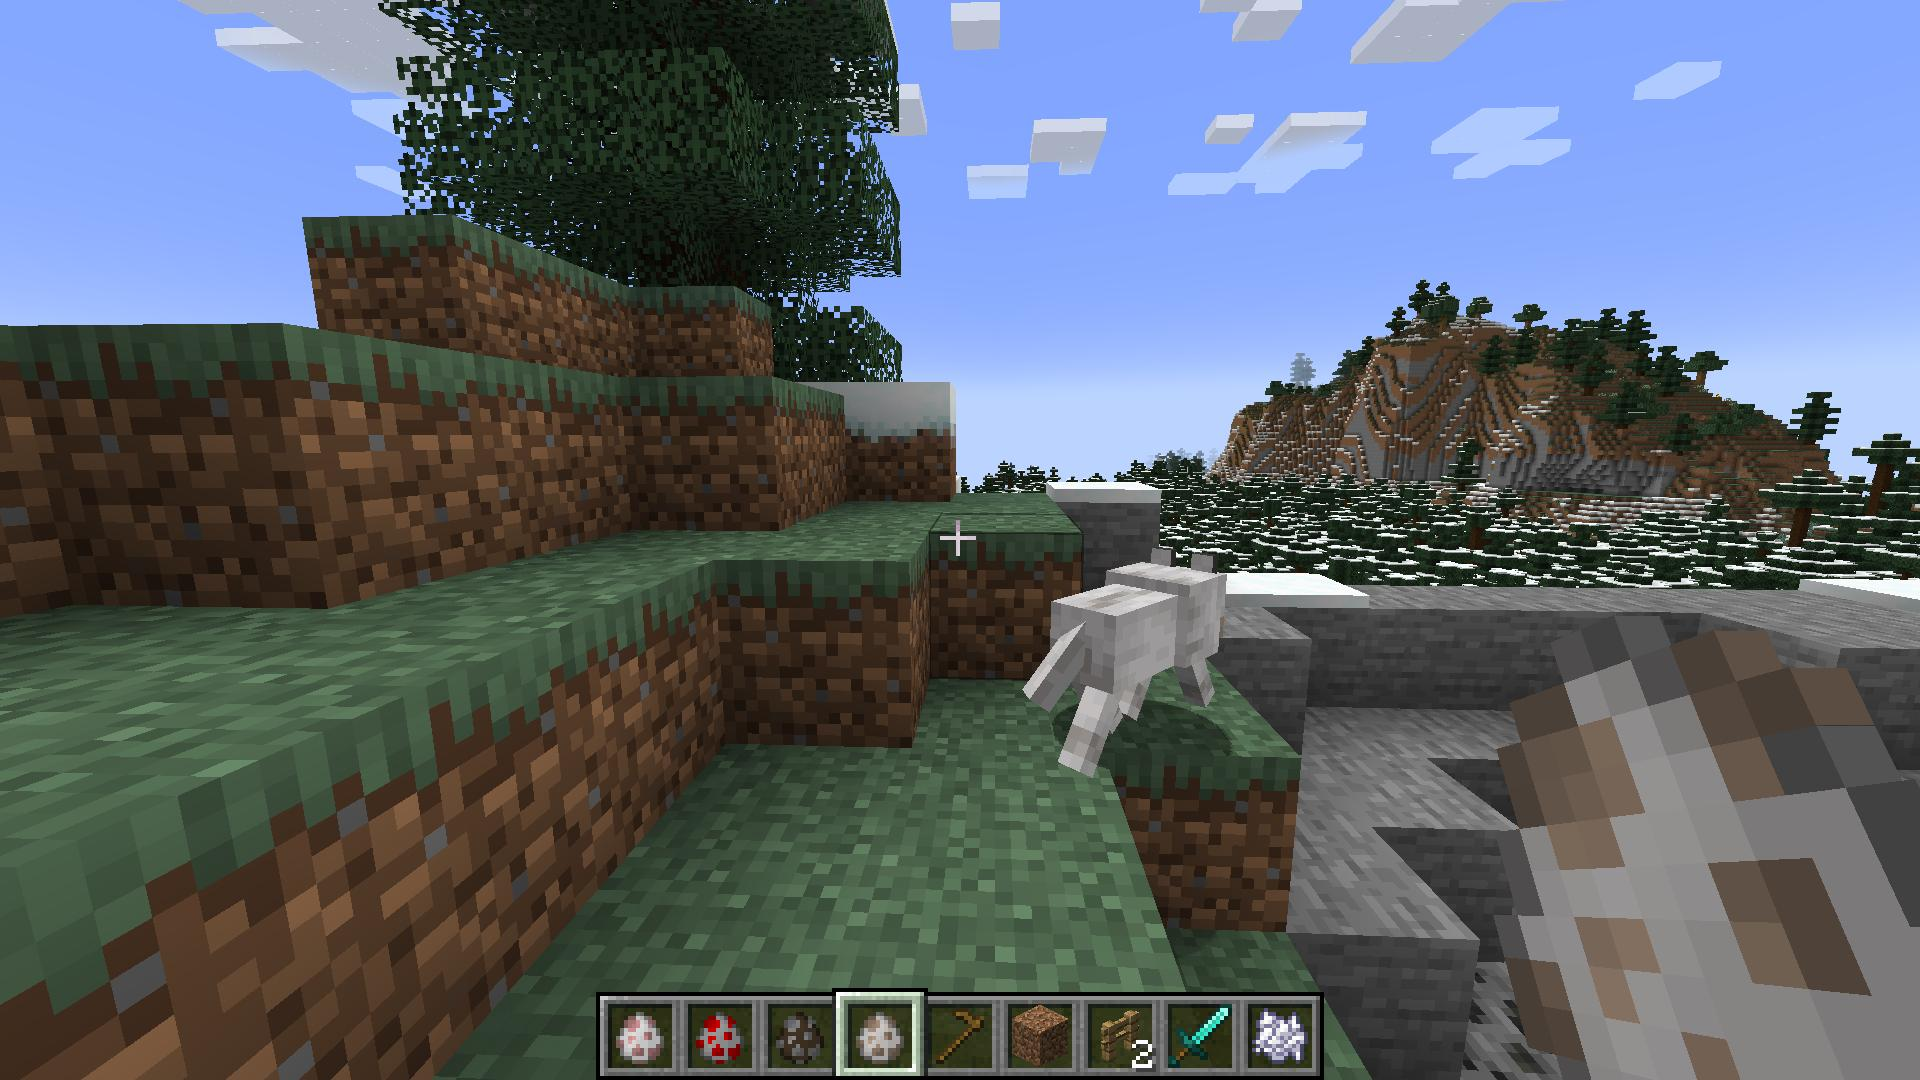wolf: (1018, 543, 1232, 783)
